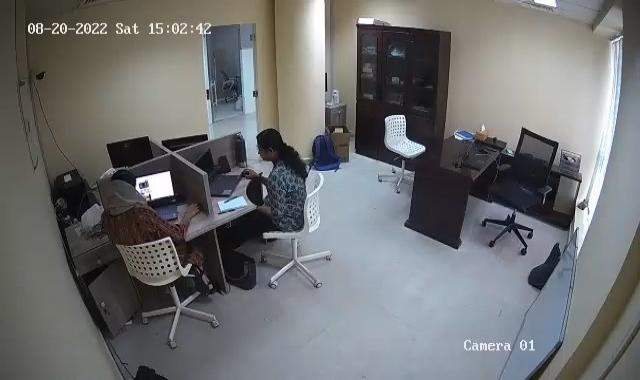no_hairnet: (250, 126, 287, 163), (108, 168, 140, 206)
